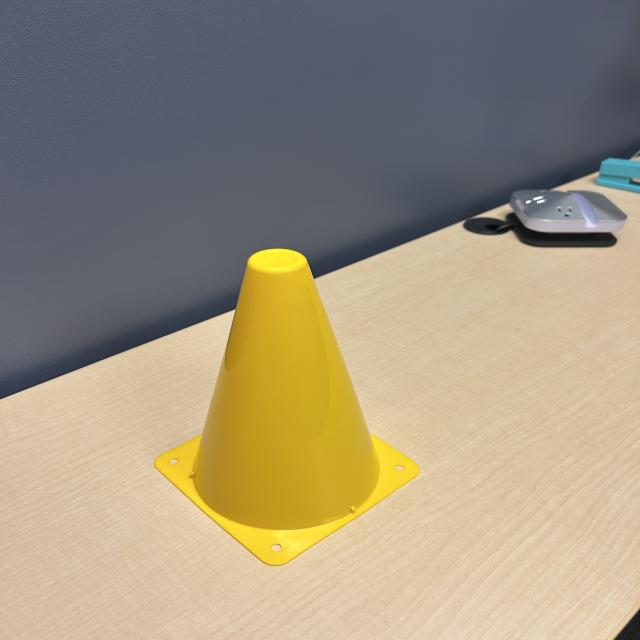yellow cone: (146, 239, 423, 571)
